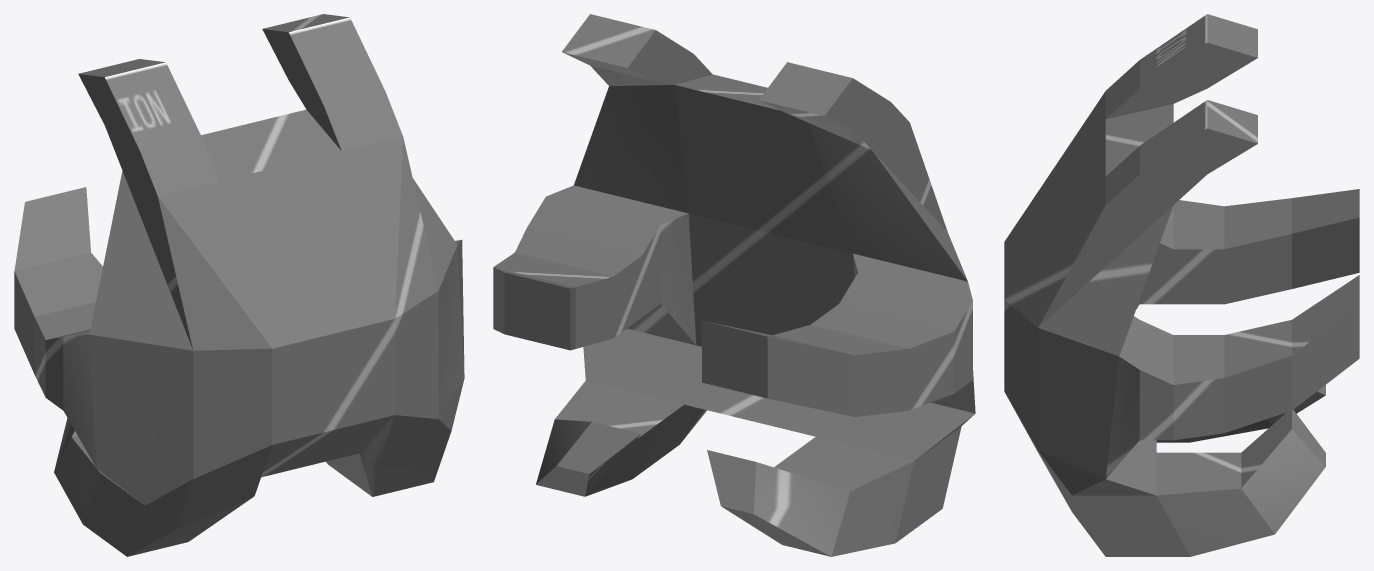
The model's file is Chest-Soldier-Front.obj.
3 views of the same model, side by side, from view 1: azimuth 30°, elevation 25°; view 2: azimuth 150°, elevation 25°; view 3: azimuth 270°, elevation 25° (orthographic). The views are drawn at different scales.
Visible parts, largest first — view 1: Chest-Soldier-Front; view 2: Chest-Soldier-Front; view 3: Chest-Soldier-Front.
Part boxes in pixels (bbox=[...]): Chest-Soldier-Front: bbox=[14, 14, 464, 556]; Chest-Soldier-Front: bbox=[493, 14, 975, 556]; Chest-Soldier-Front: bbox=[1004, 14, 1359, 556].
Size of the model in its own units: 3.25 by 3.38 by 2.63.
